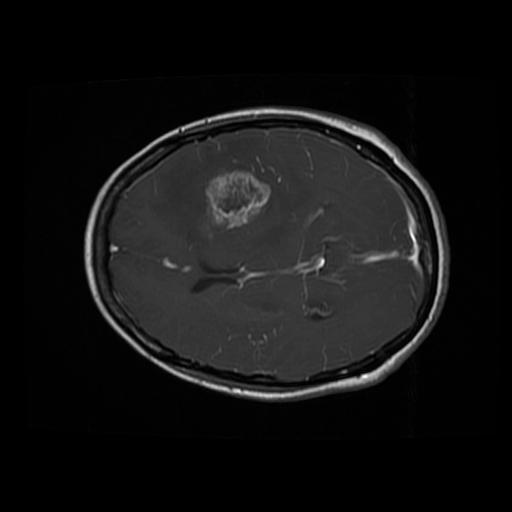glioma: (193, 169, 274, 241)
